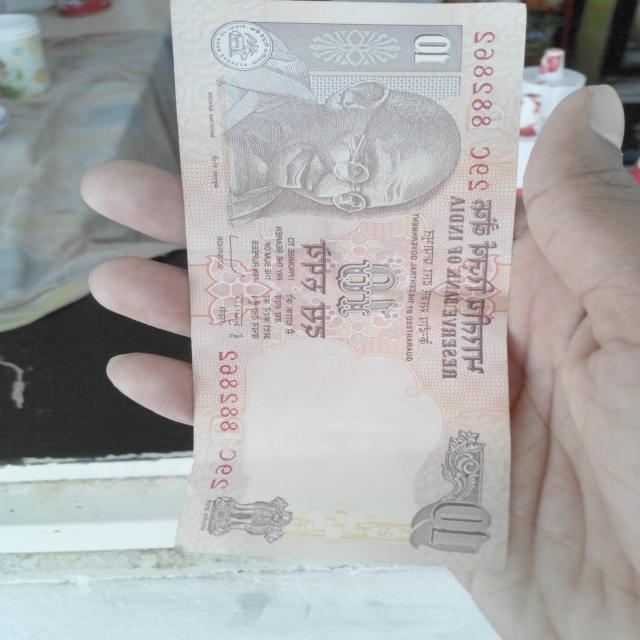10rs: (169, 2, 527, 558)
